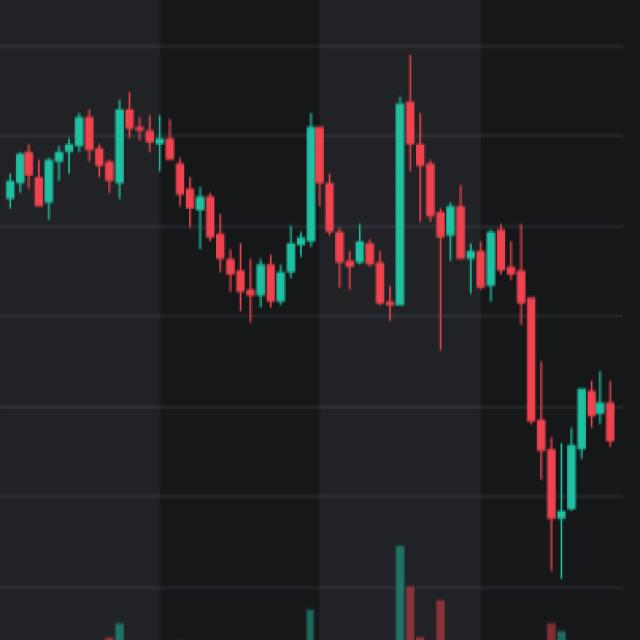Support-breakout: (248, 104, 619, 568)
